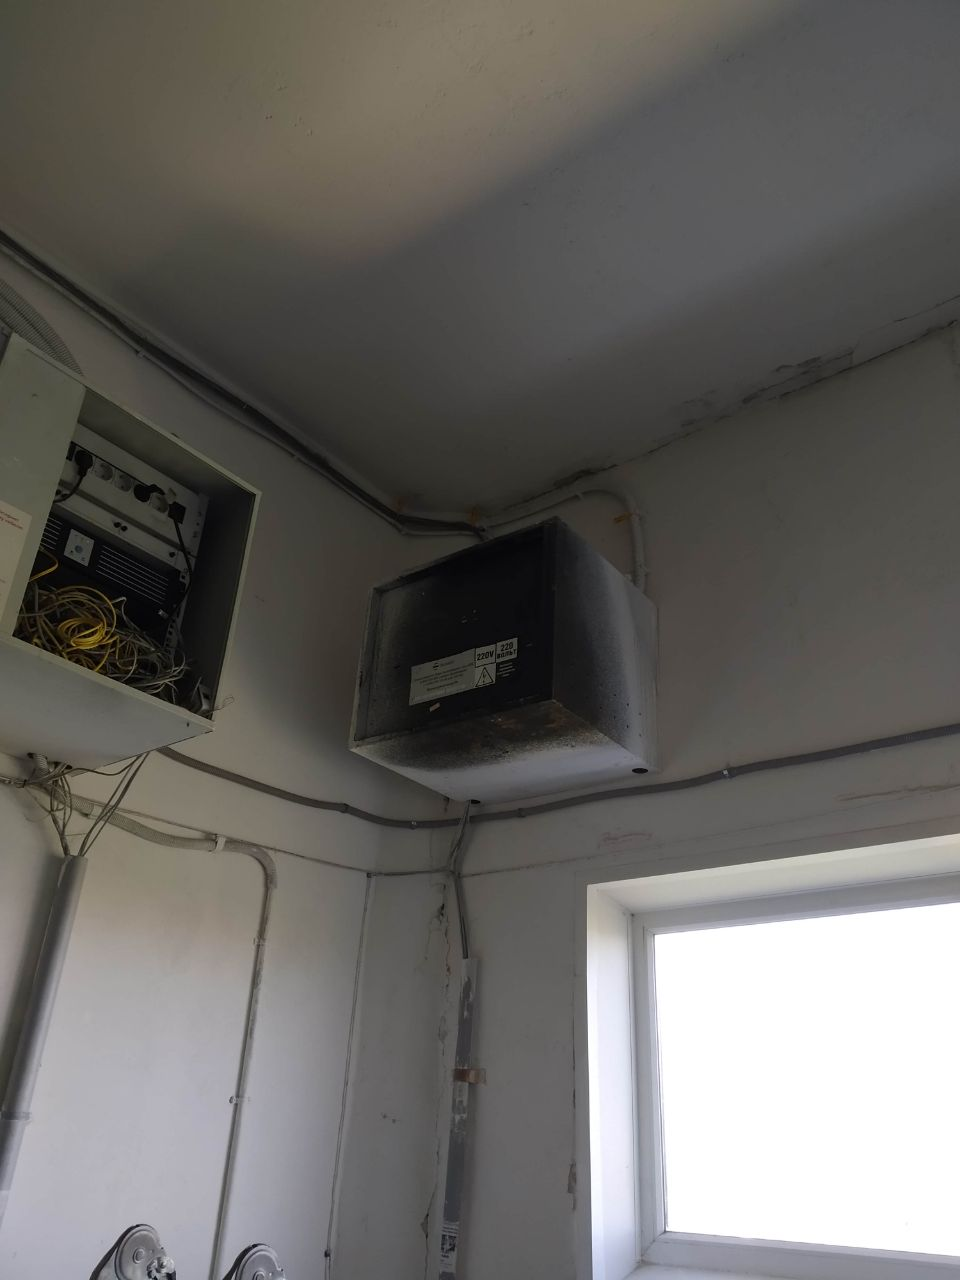shta-9m: (338, 508, 672, 821)
